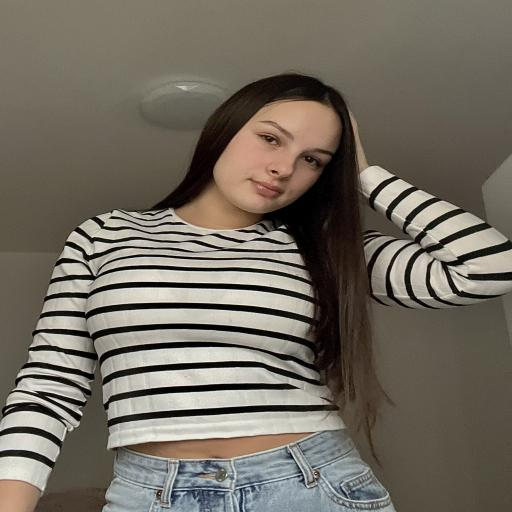marija: (207, 88, 348, 214)
